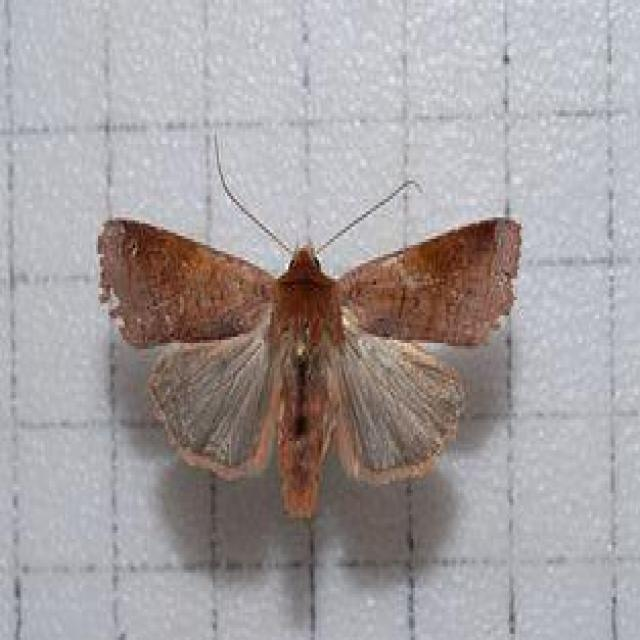BeetArmyWorm-Adult-: (94, 124, 526, 526)
